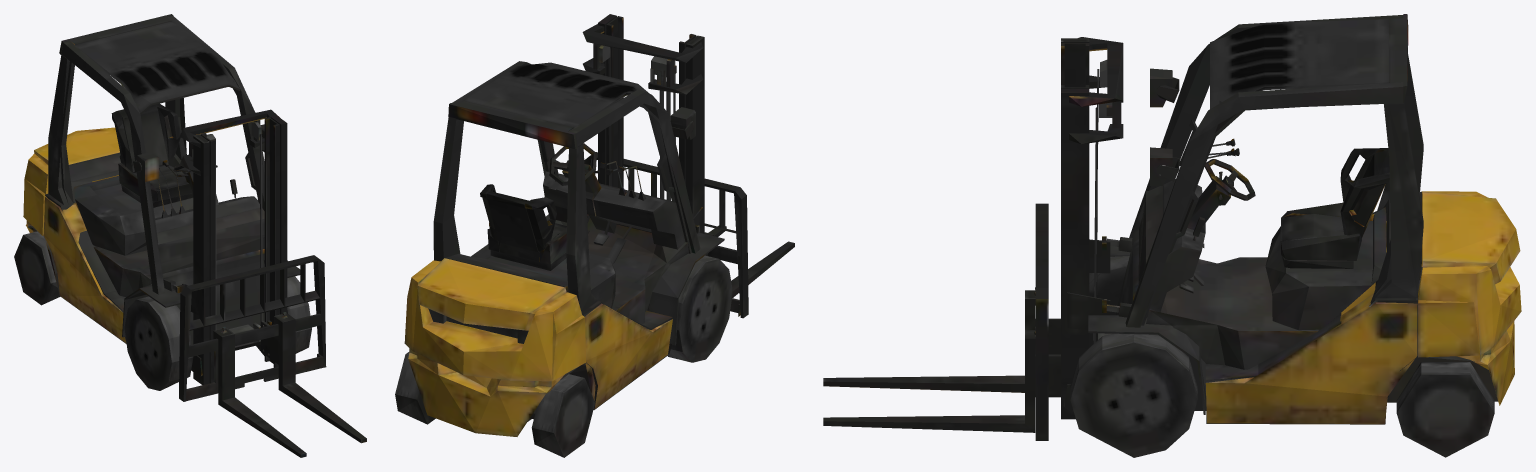
The model's file is forklift.glb.
3 renders of one model, left to right at view 1: azimuth 30°, elevation 25°; view 2: azimuth 150°, elevation 25°; view 3: azimuth 270°, elevation 25°, orthographic. The views are drawn at different scales.
Parts seen in each view (by area): view 1: Loader_car_Loader_car_Material_0; view 2: Loader_car_Loader_car_Material_0; view 3: Loader_car_Loader_car_Material_0.
Part boxes in pixels (<box>): Loader_car_Loader_car_Material_0: <box>14,14,366,457</box>; Loader_car_Loader_car_Material_0: <box>395,14,794,457</box>; Loader_car_Loader_car_Material_0: <box>823,14,1521,457</box>.
Size of the model in its own units: 118 by 212 by 371.
1 material, 1 textured.
